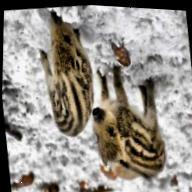boar: (81, 56, 185, 187), (26, 10, 102, 147)
